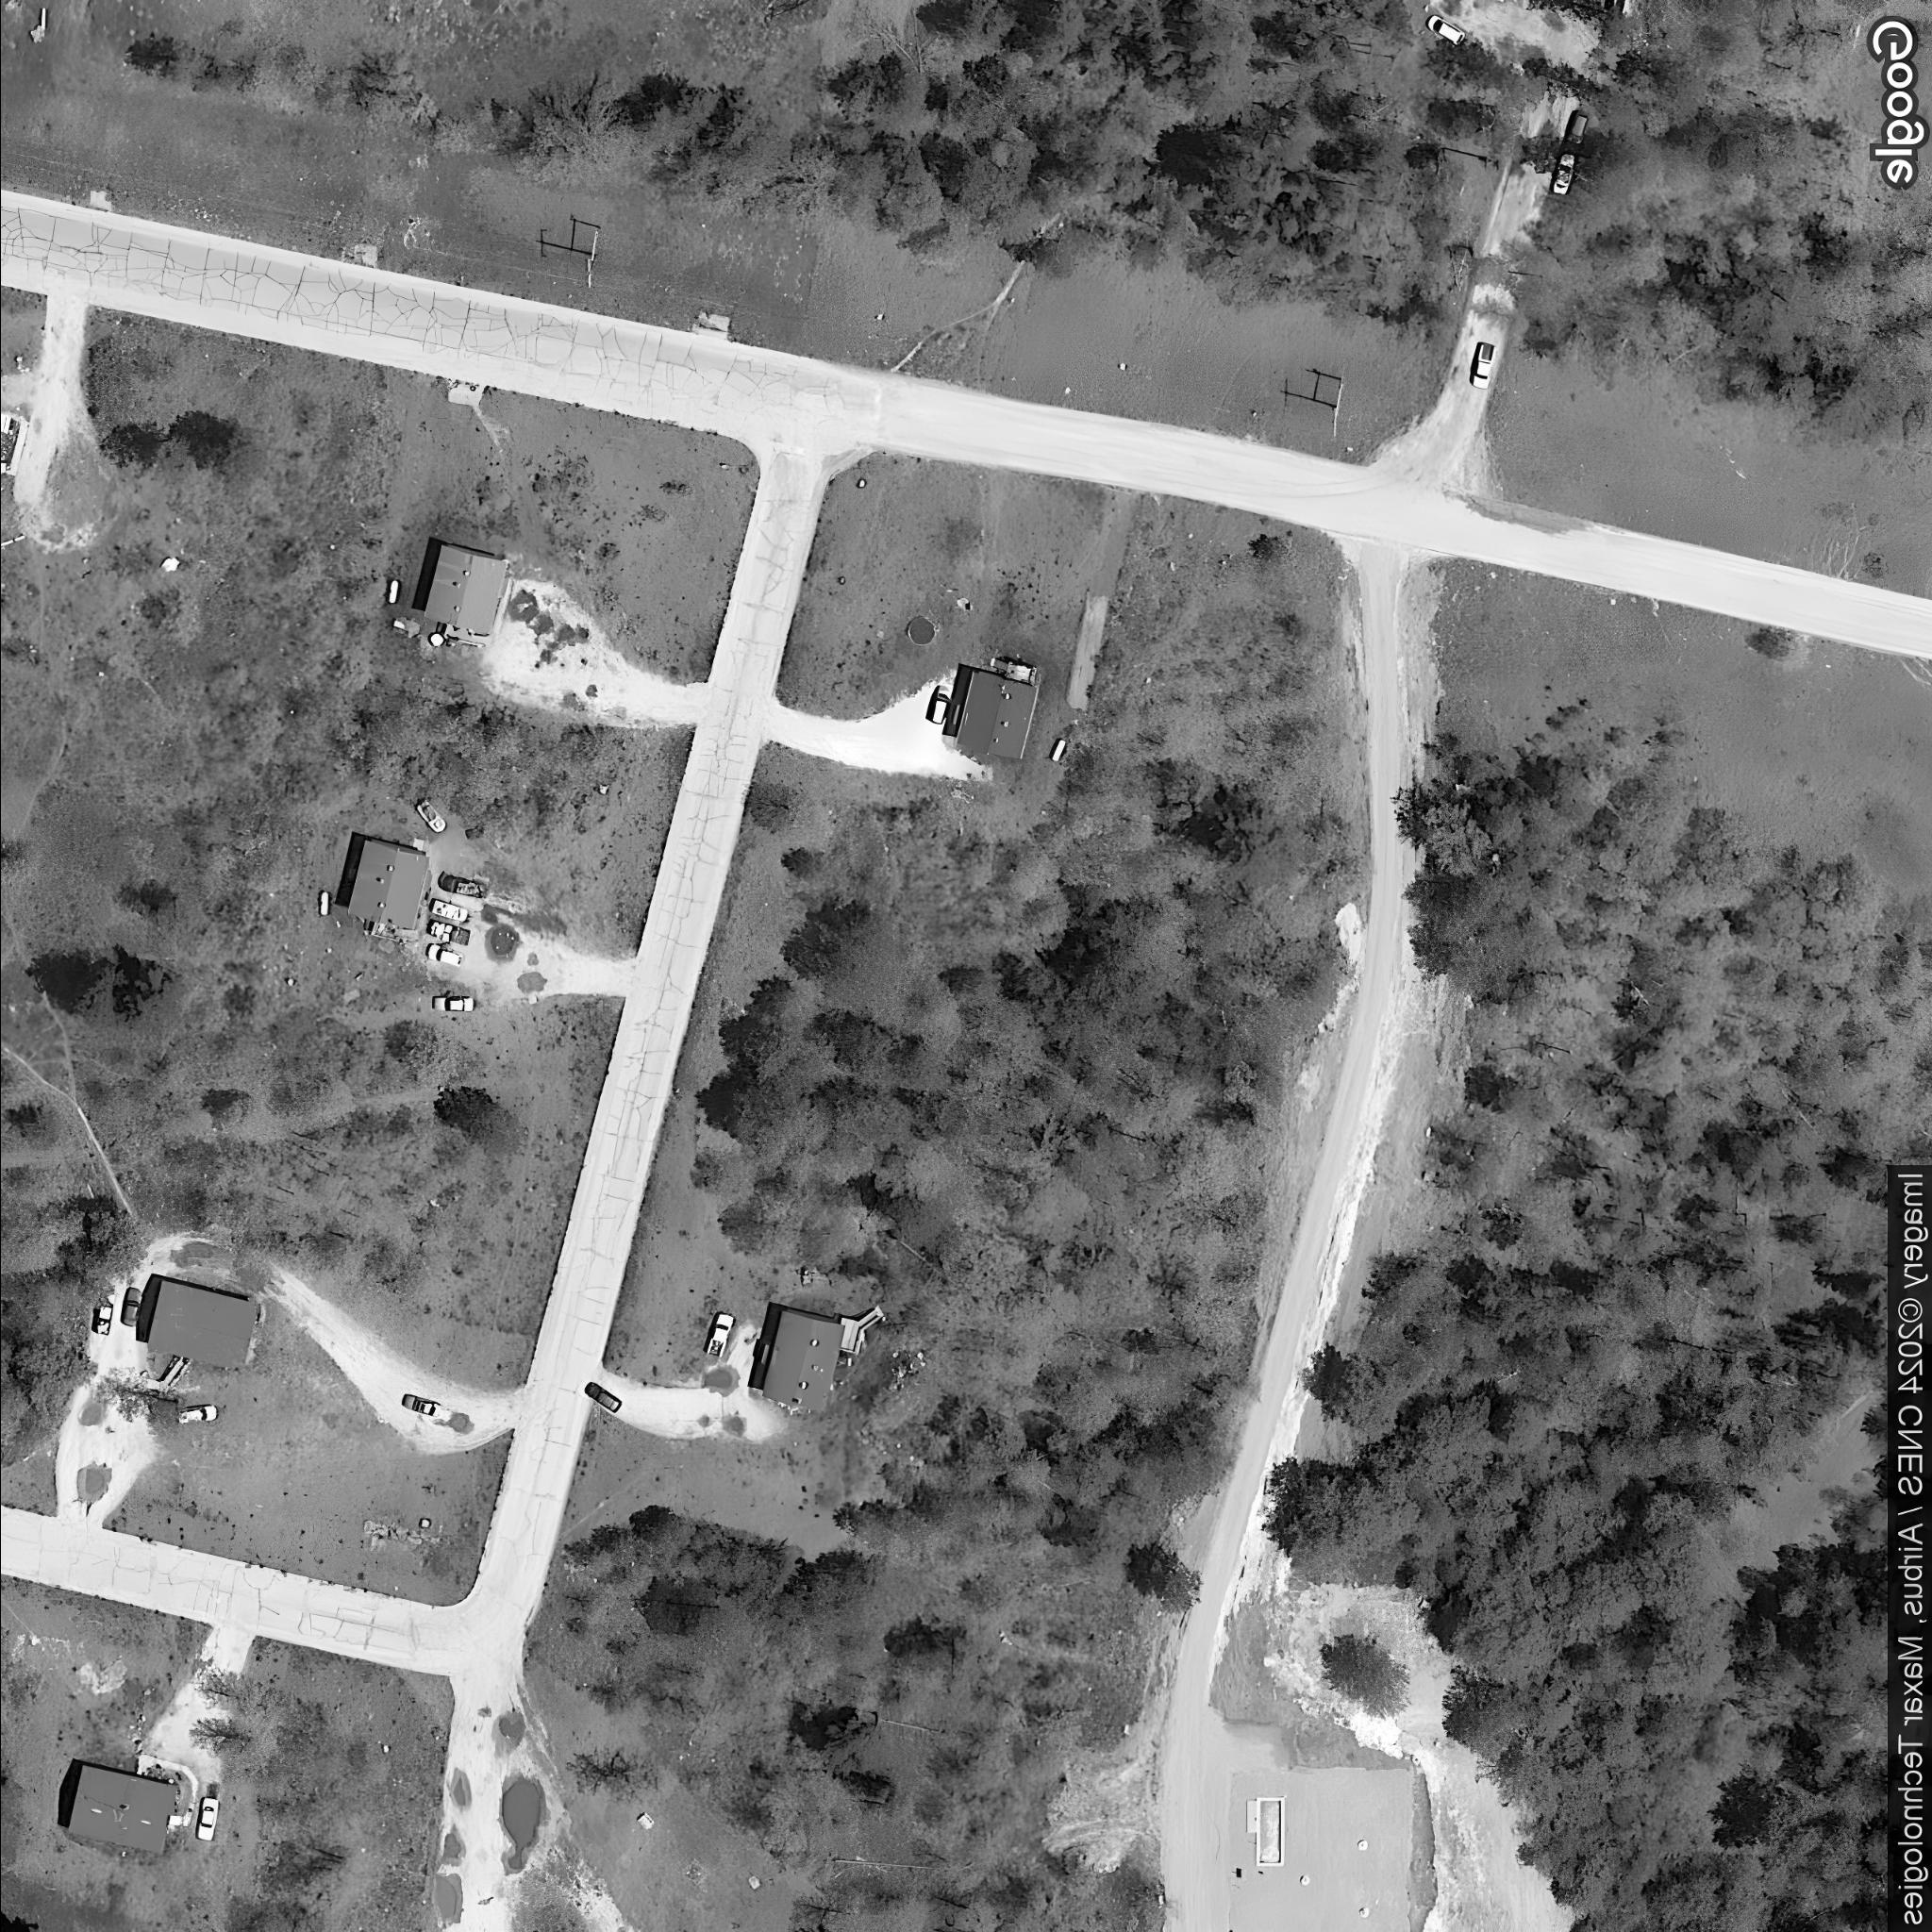House: (65, 1759, 179, 1858), (145, 1277, 260, 1371), (757, 1304, 846, 1414), (421, 541, 513, 637), (345, 837, 432, 932), (955, 669, 1040, 764)
Propane: (1046, 734, 1070, 764), (313, 888, 331, 918), (384, 579, 402, 605)
